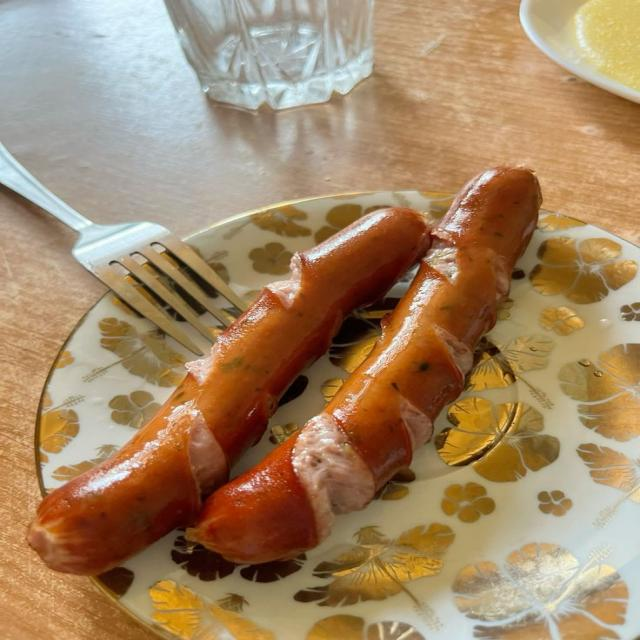sausage: (28, 209, 430, 574), (188, 167, 540, 563)
